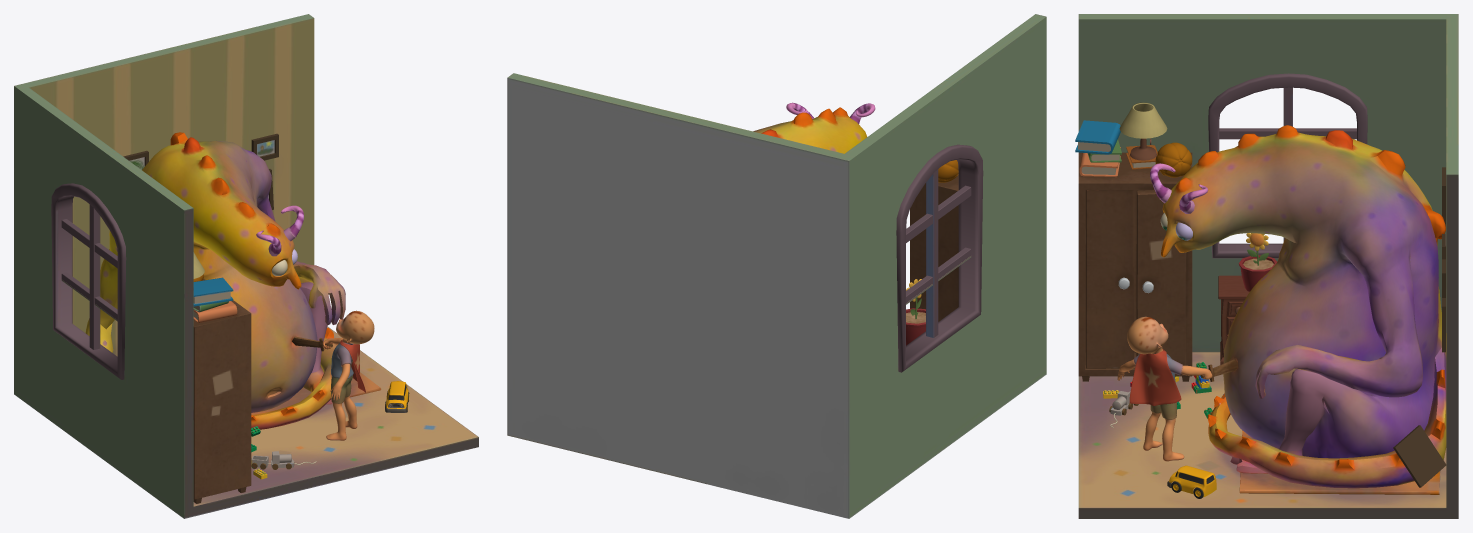
The model's file is room.gltf.
3 renders of one model, left to right at view 1: azimuth 30°, elevation 25°; view 2: azimuth 150°, elevation 25°; view 3: azimuth 270°, elevation 25°, orthographic. The views are drawn at different scales.
Visible parts, largest first — view 1: Object_9, Object_5, Object_7, Object_4, Object_6, Object_8, Object_3; view 2: Object_9, Object_7, Object_5, Object_2; view 3: Object_9, Object_5, Object_7, Object_4, Object_2, Object_6, Object_3, Object_8.
Boxes of the visible parts, box(x1,y1,x2,y2) form: Object_9: box(14, 14, 478, 518); Object_5: box(85, 132, 345, 429); Object_7: box(193, 252, 251, 503); Object_4: box(292, 310, 374, 440); Object_6: box(123, 133, 278, 209); Object_8: box(251, 426, 316, 479); Object_3: box(385, 381, 409, 412); Object_9: box(507, 14, 1046, 518); Object_7: box(910, 160, 958, 321); Object_5: box(753, 102, 875, 153); Object_2: box(906, 279, 925, 345); Object_9: box(1078, 14, 1458, 518); Object_5: box(1150, 125, 1446, 488); Object_7: box(1075, 102, 1192, 381); Object_4: box(1117, 316, 1237, 461); Object_2: box(1218, 233, 1276, 364); Object_6: box(1393, 167, 1446, 487); Object_3: box(1167, 465, 1216, 498); Object_8: box(1103, 362, 1223, 427).
Bounding box in the file's own units: 105 × 103 × 104.
8 materials, 8 textured.
